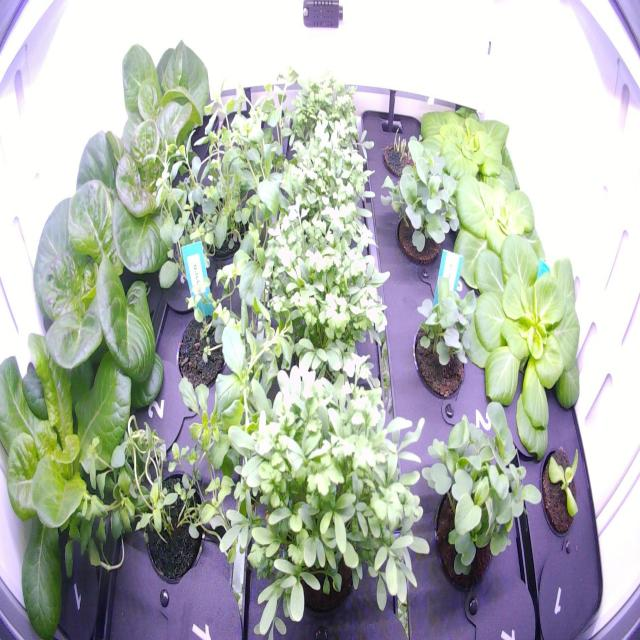Ready: (0, 327, 164, 634), (23, 162, 178, 434), (70, 64, 212, 288), (108, 4, 219, 177)
germination: (406, 271, 482, 405)
young: (457, 224, 603, 473), (412, 88, 526, 218), (444, 162, 554, 296), (531, 438, 590, 544)
